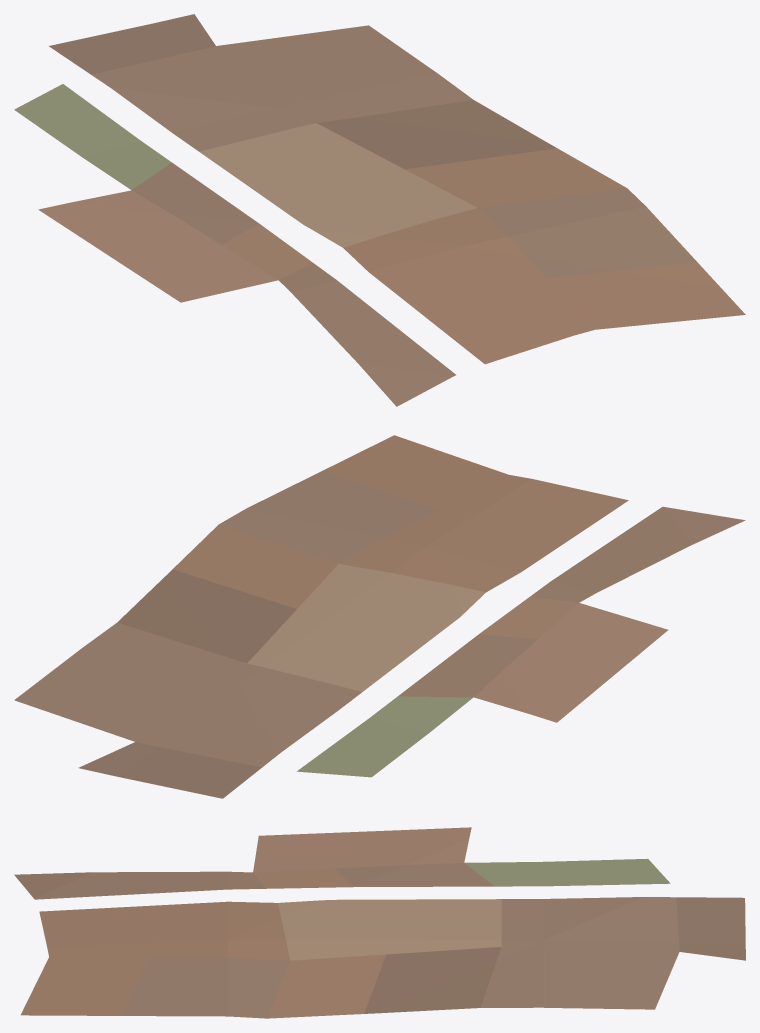
The model's file is farm_7_25_soil.glb.
The picture shows the model from 3 angles, top to bottom: view 1: azimuth 30°, elevation 25°; view 2: azimuth 150°, elevation 25°; view 3: azimuth 270°, elevation 25°; orthographic projection. The views are drawn at different scales.
Visible parts, largest first — view 1: geometry_0; view 2: geometry_0; view 3: geometry_0.
Boxes of the visible parts, bbox=[...] form: geometry_0: bbox=[14, 14, 745, 406]; geometry_0: bbox=[14, 435, 745, 798]; geometry_0: bbox=[14, 827, 745, 1018].
Size of the model in its own units: 113 by 4.42 by 185.
